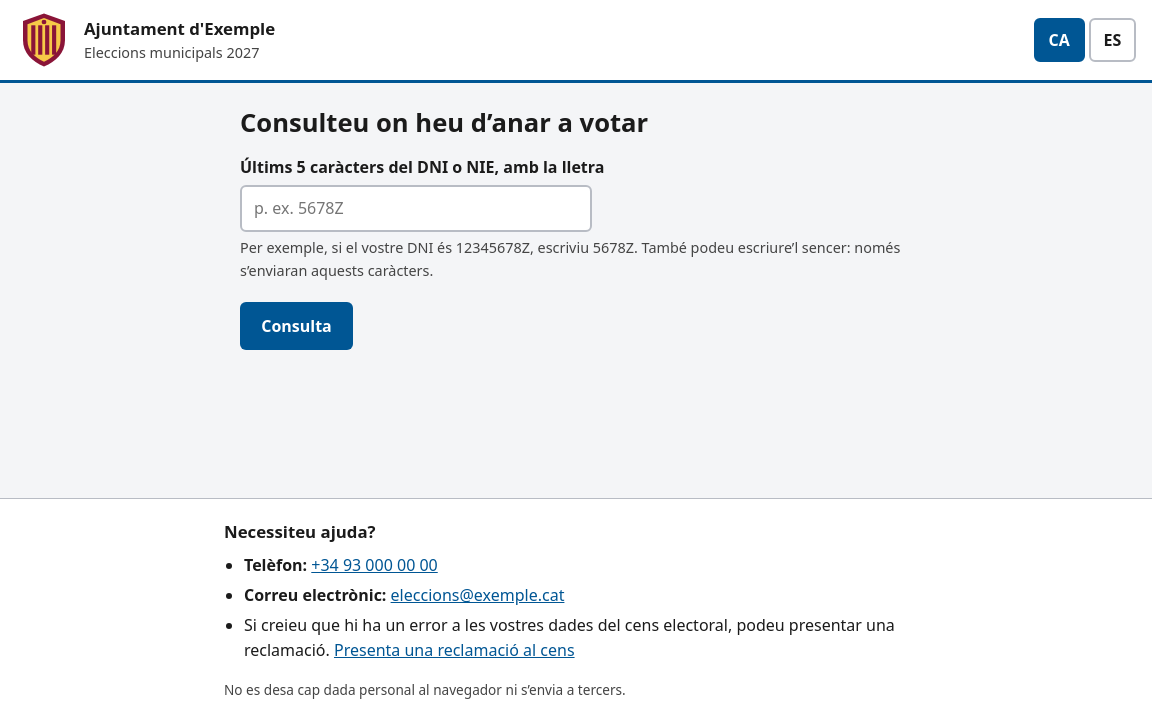
it: idiomes configurables › si falta la traducció de l’idioma actiu, es mostra la del defaultLanguage
The image size is (1152, 720).
Check: the text "Eleccions municipals 2027" is shown, box [84, 42, 275, 64]
Click the button named "castellano": x=1112, y=40 [1089, 18, 1136, 62]
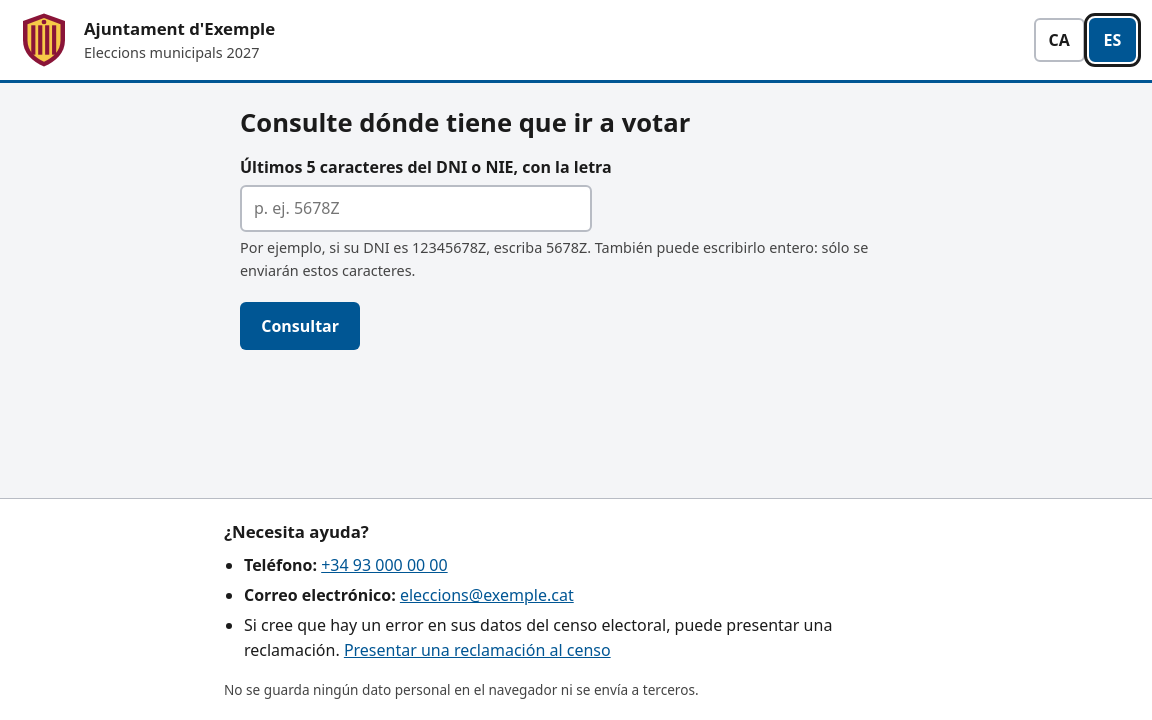
Check: the text "Eleccions municipals 2027" is shown, box [84, 42, 275, 64]
Check: the button "Consultar" is shown, box [240, 302, 360, 350]
